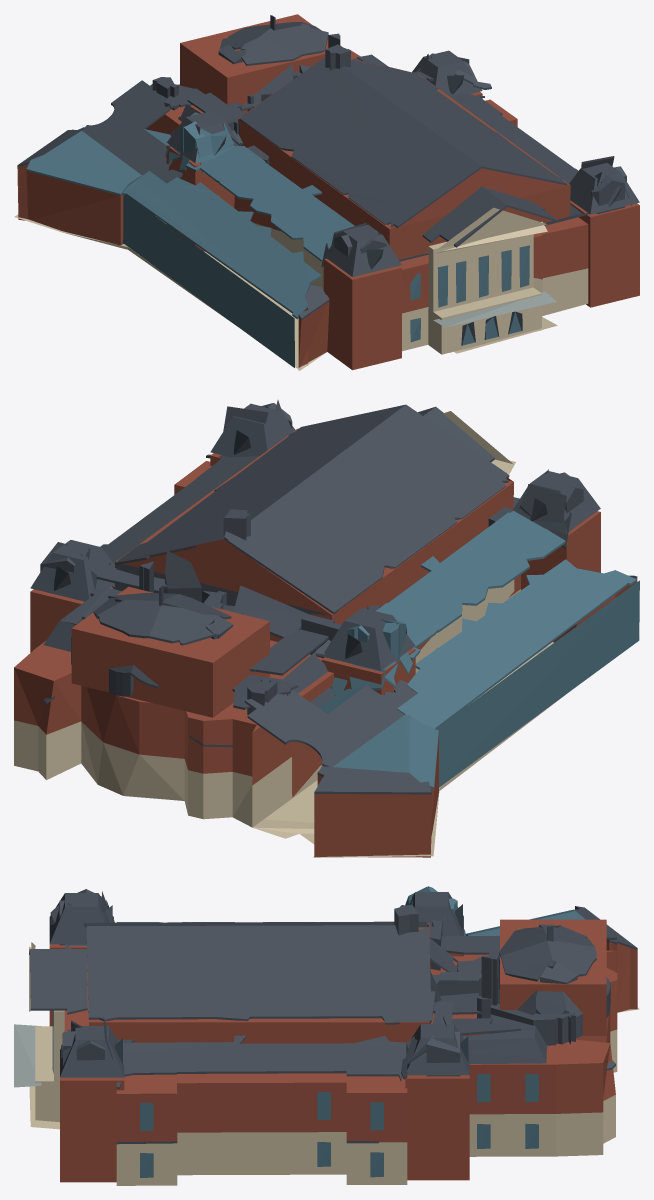
The model's file is concertgebouw.lod2.glb.
The picture shows the model from 3 angles, top to bottom: view 1: azimuth 30°, elevation 25°; view 2: azimuth 150°, elevation 25°; view 3: azimuth 270°, elevation 25°; orthographic projection. The views are drawn at different scales.
Visible parts, largest first — view 1: lod2; view 2: lod2; view 3: lod2.
Part boxes in pixels (x1,y1,x2,y2): lod2: (14, 14, 639, 370); lod2: (14, 400, 639, 857); lod2: (14, 886, 639, 1185).
Bounding box in the file's own units: 68.45 × 27.84 × 82.65.
